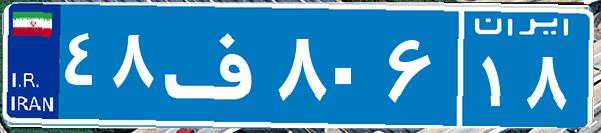0: (330, 28, 385, 110)
1: (475, 38, 525, 113)
4: (57, 26, 110, 107)
6: (385, 28, 445, 110)
8: (273, 28, 330, 110), (110, 28, 158, 105), (525, 38, 570, 115)
ف: (158, 15, 273, 115)
